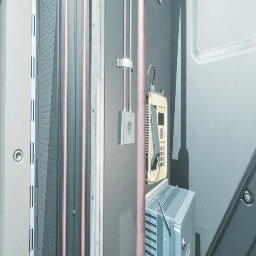EmergencyPhone ,: (146, 65, 167, 185)
